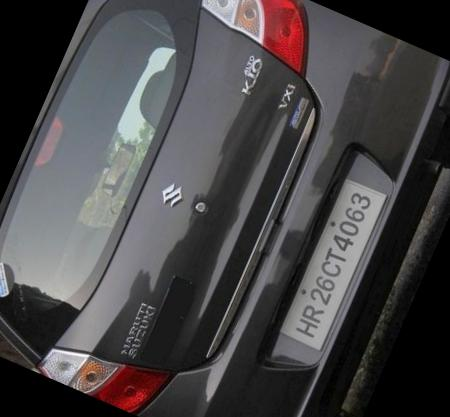plate: (261, 163, 403, 360)
